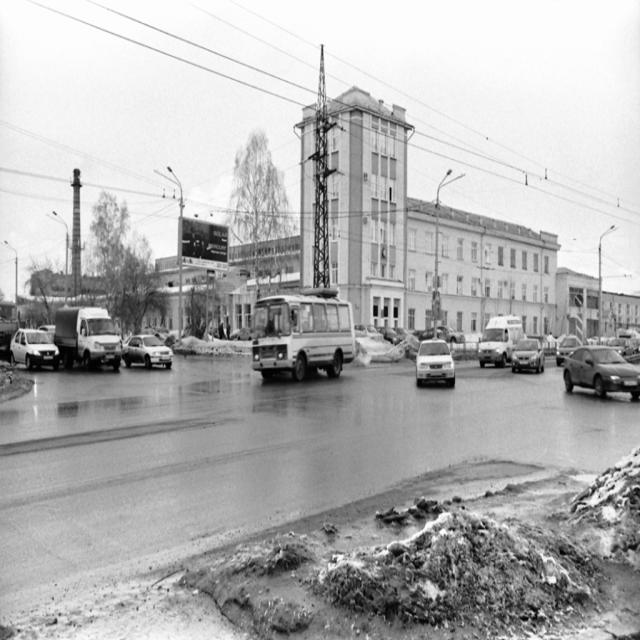car: (558, 334, 636, 397), (8, 320, 60, 370), (120, 332, 174, 365), (416, 336, 456, 380), (509, 335, 546, 374)
